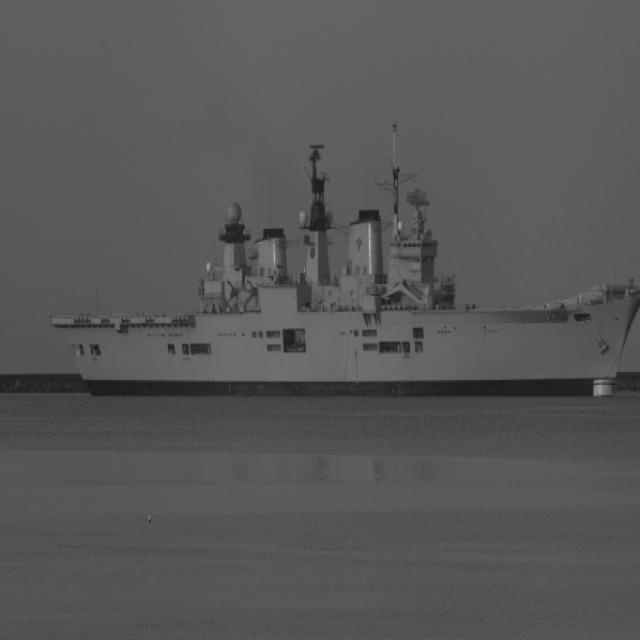Portanaves: (47, 112, 640, 398)
